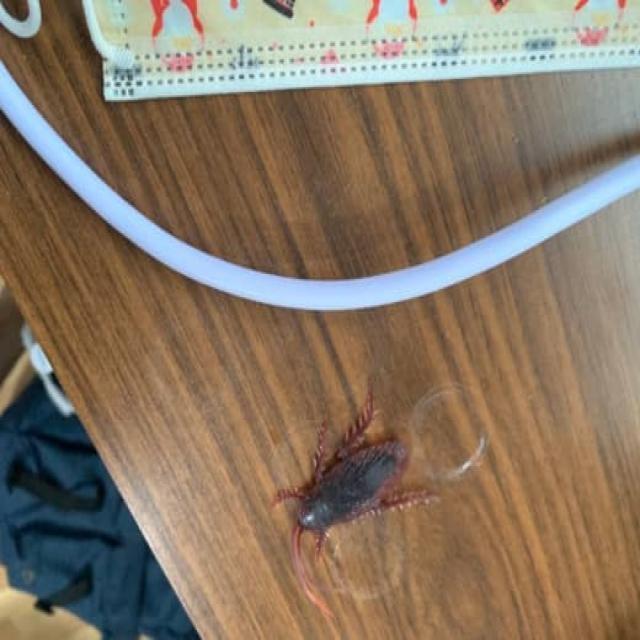Cockroach: (258, 372, 448, 610)
